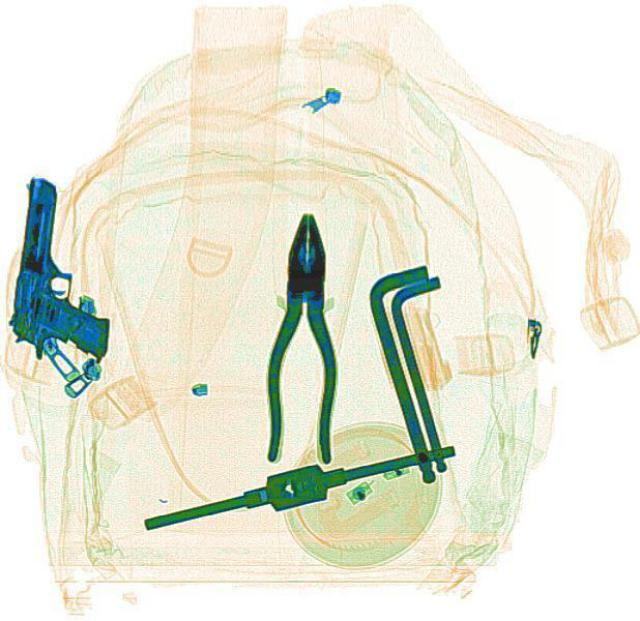Gun: (3, 175, 129, 364)
Pliers: (262, 210, 344, 461)
